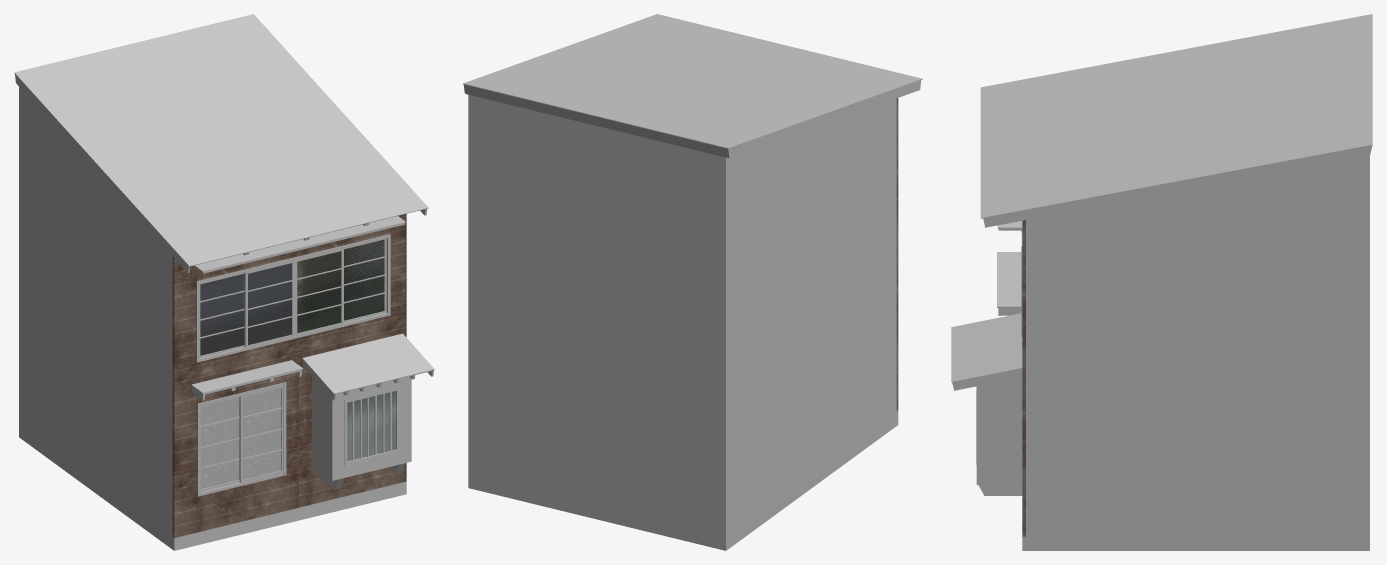
The model's file is JpHouse_31a.fbx.
3 views of the same model, side by side, from view 1: azimuth 30°, elevation 25°; view 2: azimuth 150°, elevation 25°; view 3: azimuth 270°, elevation 25° (orthographic). The views are drawn at different scales.
Visible parts, largest first — view 1: JpHouse_31a; view 2: JpHouse_31a; view 3: JpHouse_31a.
Part boxes in pixels (x1=…): JpHouse_31a: x1=14, y1=14, x2=434, y2=550; JpHouse_31a: x1=463, y1=14, x2=922, y2=550; JpHouse_31a: x1=951, y1=14, x2=1372, y2=550.
Size of the model in its own units: 3.91 by 5.7 by 5.34.
